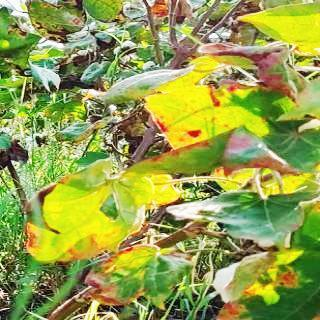blight: (141, 69, 320, 187), (18, 157, 158, 267)
